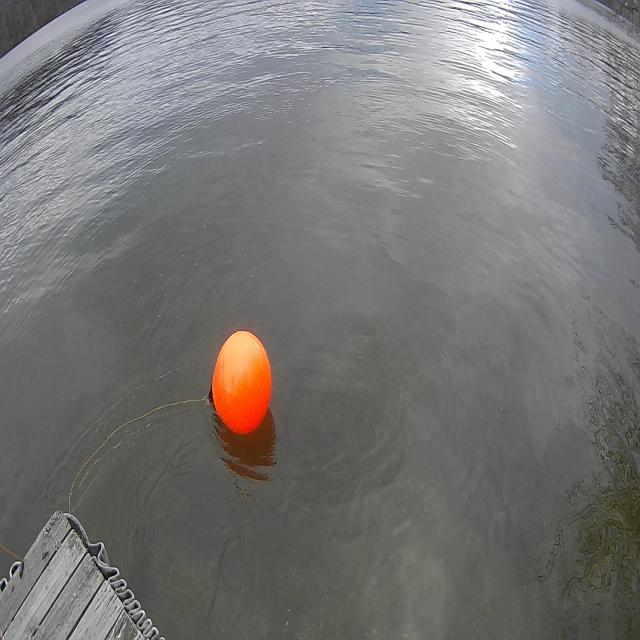Buoy: (205, 323, 277, 446)
